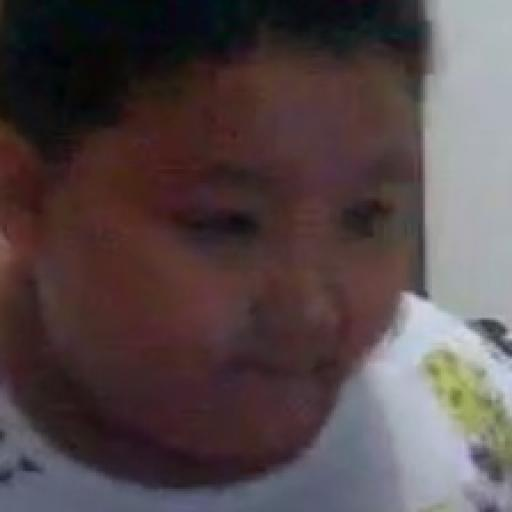Autism: (36, 18, 446, 512)
